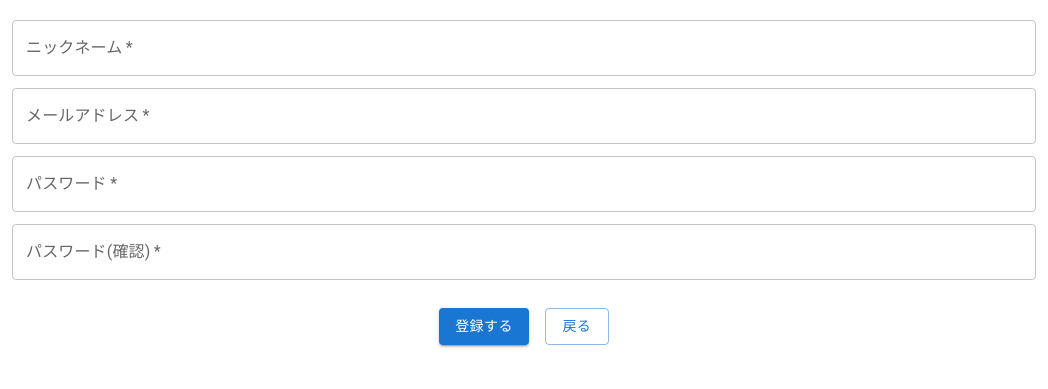
Test case: SignupForm › validation message is displayed if the email address entered is incorrect
Type "user" into the field labelled "ニックネーム" at [524, 48], box [12, 20, 1036, 76]
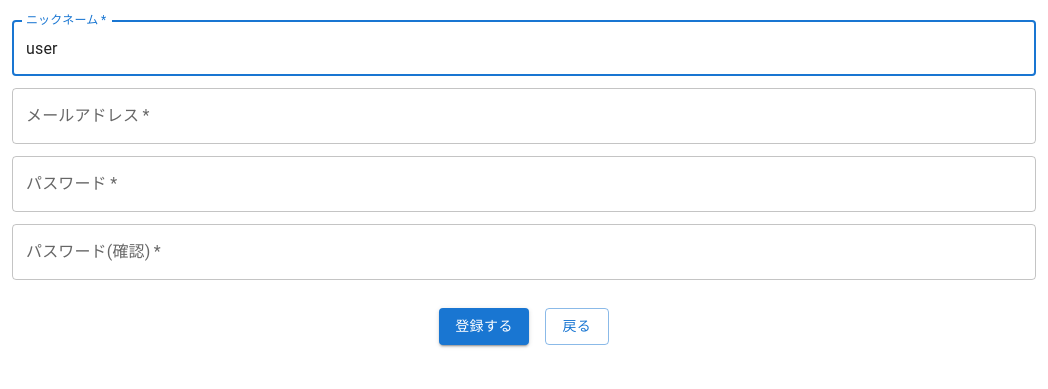
Type "test_gmail.com" into the field labelled "メールアドレス" at [524, 116], box [12, 88, 1036, 144]
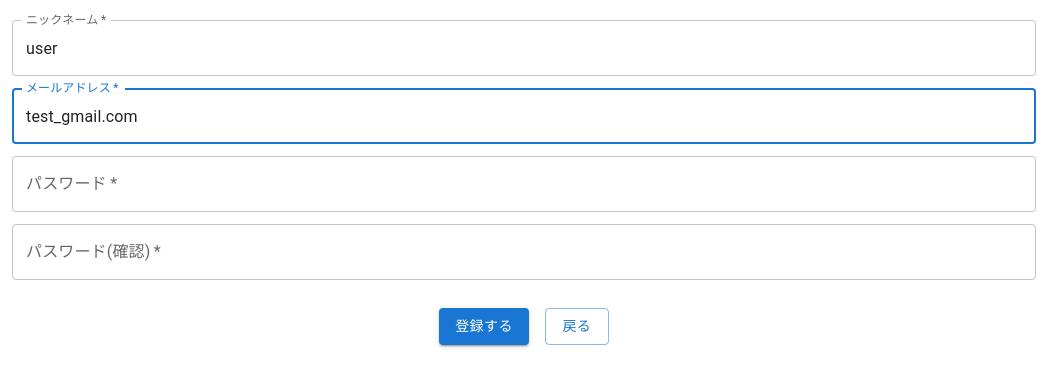
Type "password" into the password field with test id "password" at [524, 184], box [12, 156, 1036, 212]
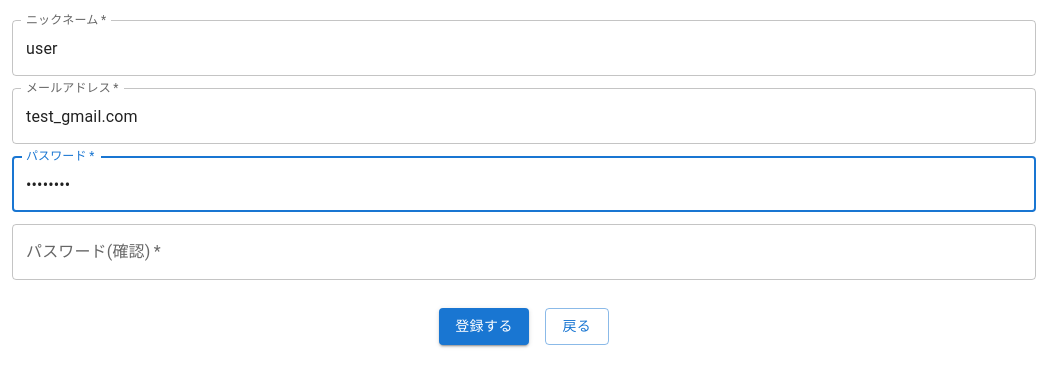
Type "password" into the password field with test id "password-confirmation" at [524, 252], box [12, 224, 1036, 280]
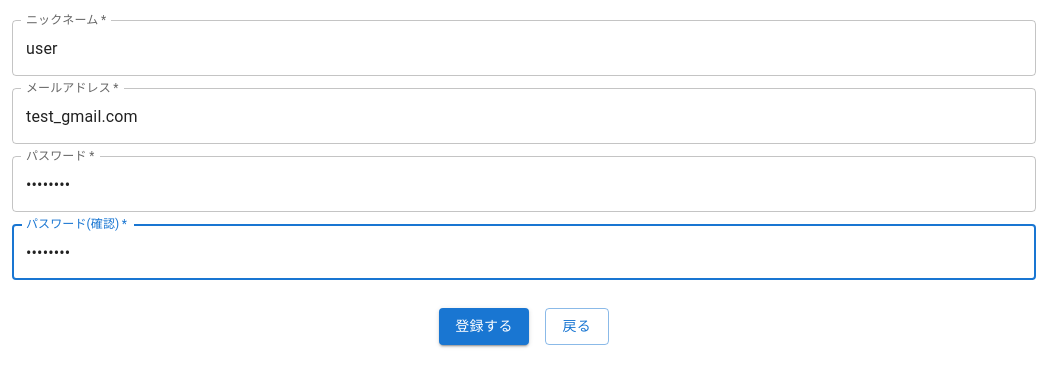
Click the button "登録する" at [484, 326], box [439, 308, 529, 344]
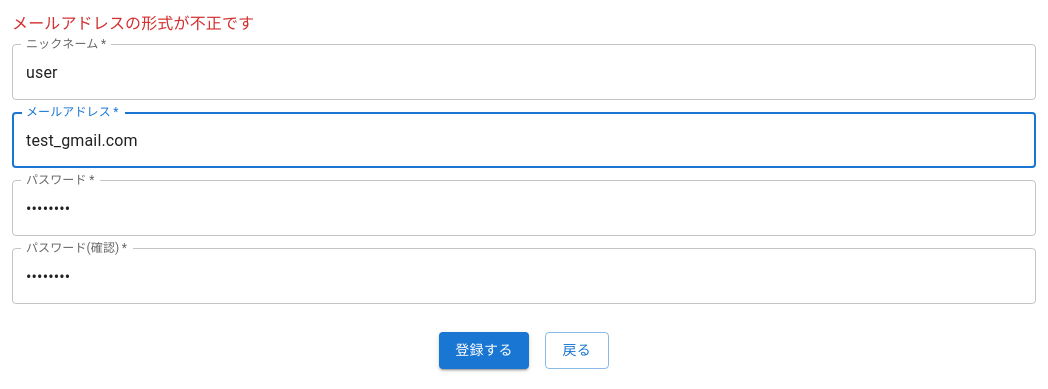
Expected: the text "メールアドレスの形式が不正です" is shown, [12, 14, 254, 33]
